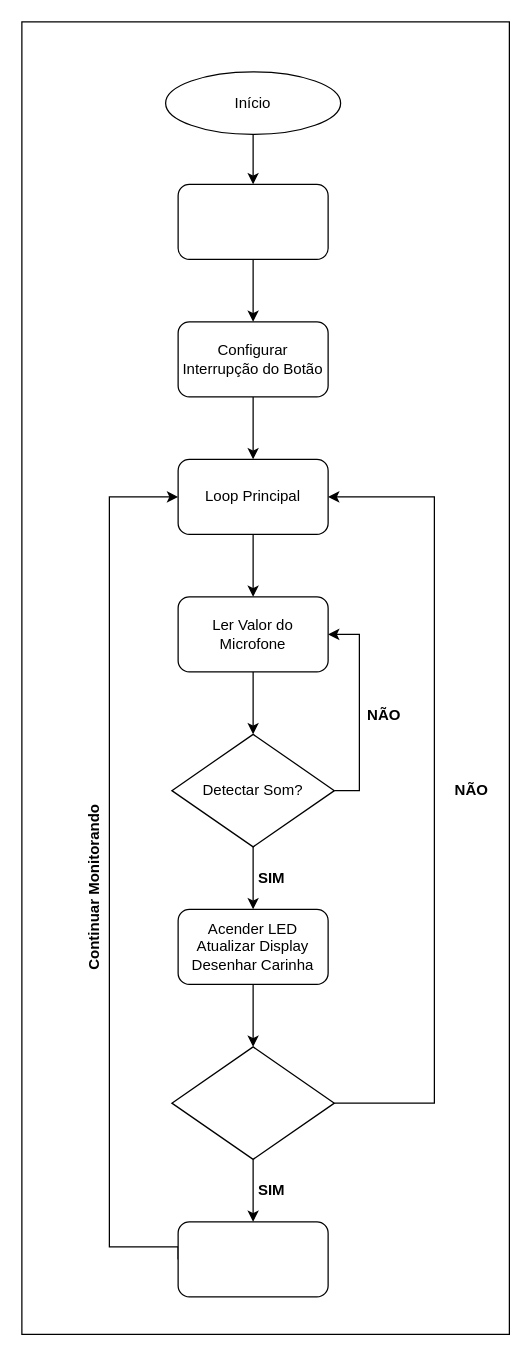
Some shapes in this 531 by 1356 pixel diagram are drawn without their labels. Each missing label, with the centre of its shape:
Apagar LED, Display e Matriz: the point at 252,1259
Botão Pressionado?: the point at 252,1102
Inicializar GPIO, ADC, I2C, Display: the point at 252,221
